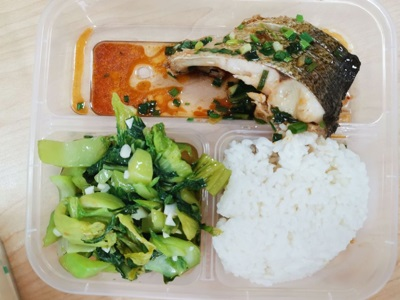cyc: (40, 127, 206, 282)
rice: (233, 133, 367, 276)
yd: (191, 13, 349, 127)
